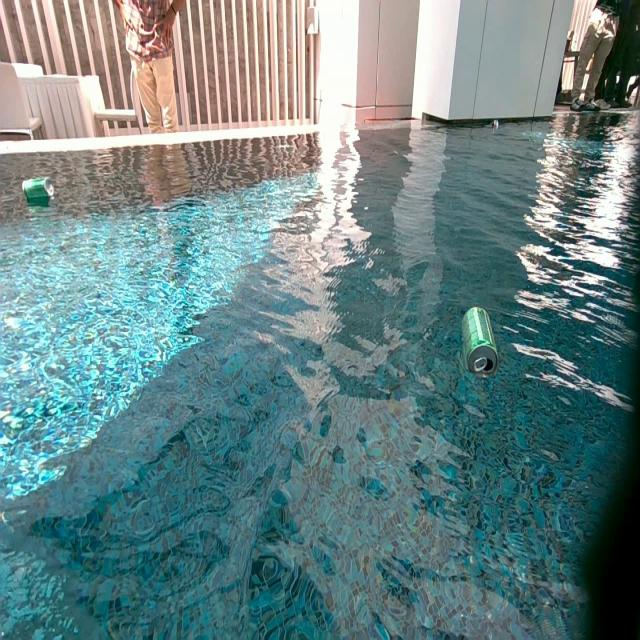Cans: (460, 306, 498, 380), (24, 178, 53, 200), (492, 120, 498, 129)
